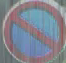No waiting: (5, 3, 62, 56)
